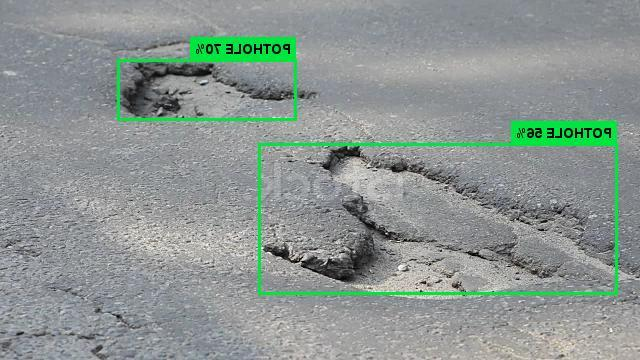POTHOLE: (182, 178, 445, 290)
